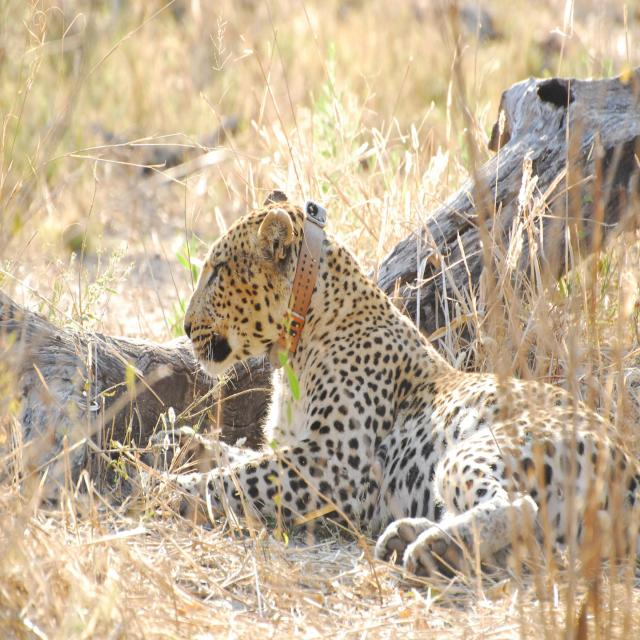Leopard: (175, 196, 627, 580)
